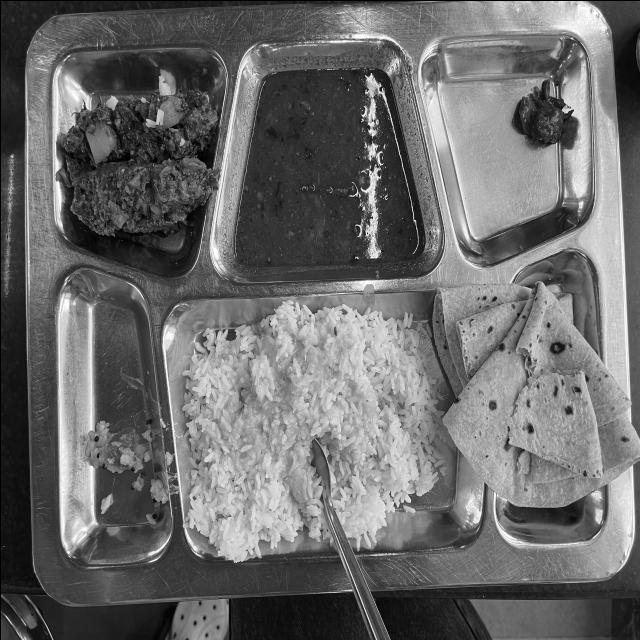70.0- Food Left: (40, 46, 620, 570)
